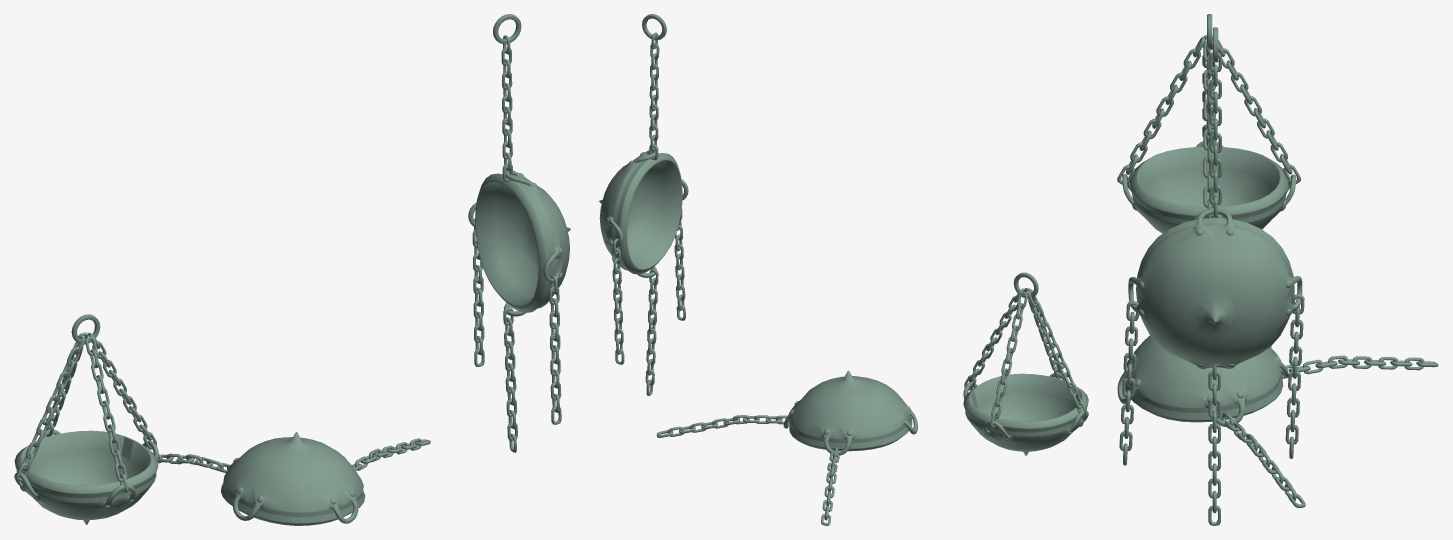
File: Hanging_lights_set.FBX
The picture shows the model from 3 angles, left to right: view 1: azimuth 30°, elevation 25°; view 2: azimuth 150°, elevation 25°; view 3: azimuth 270°, elevation 25°; orthographic projection. The views are drawn at different scales.
Parts seen in each view (by area): view 1: Hanging_light_01, Hanging_light_03, Hanging_light_02; view 2: Hanging_light_01, Hanging_light_03, Hanging_light_02; view 3: Hanging_light_01, Hanging_light_03, Hanging_light_02.
Boxes of the visible parts, left/top/right/bottom form: Hanging_light_01: left=468, top=14, right=570, bottom=452; Hanging_light_03: left=14, top=314, right=158, bottom=524; Hanging_light_02: left=157, top=432, right=430, bottom=525; Hanging_light_01: left=599, top=14, right=688, bottom=395; Hanging_light_03: left=963, top=272, right=1088, bottom=455; Hanging_light_02: left=656, top=370, right=917, bottom=525; Hanging_light_01: left=1119, top=27, right=1304, bottom=525; Hanging_light_03: left=1117, top=14, right=1300, bottom=233; Hanging_light_02: left=1117, top=335, right=1438, bottom=507.
Bounding box in the file's own units: 120 × 91.5 × 53.
